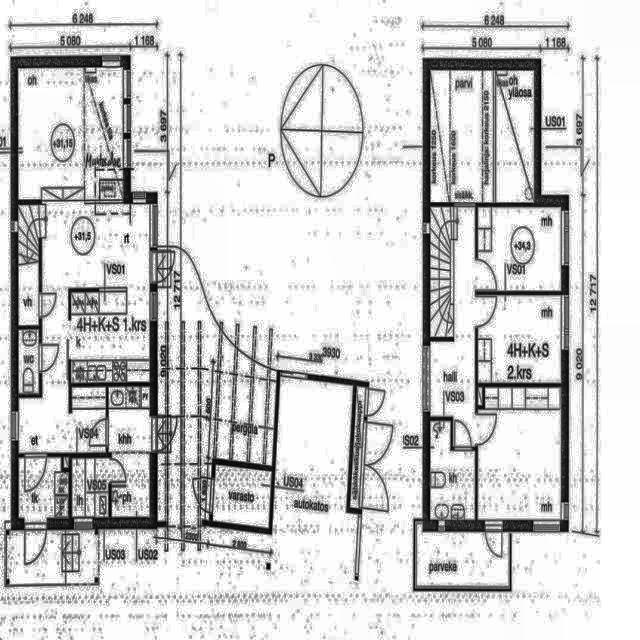room: (478, 387, 561, 520), (478, 295, 561, 384), (478, 207, 561, 291), (415, 521, 510, 589), (108, 386, 150, 518), (430, 421, 475, 521), (212, 464, 272, 528), (18, 456, 69, 519), (72, 458, 108, 518), (349, 385, 365, 508), (18, 329, 39, 394)
